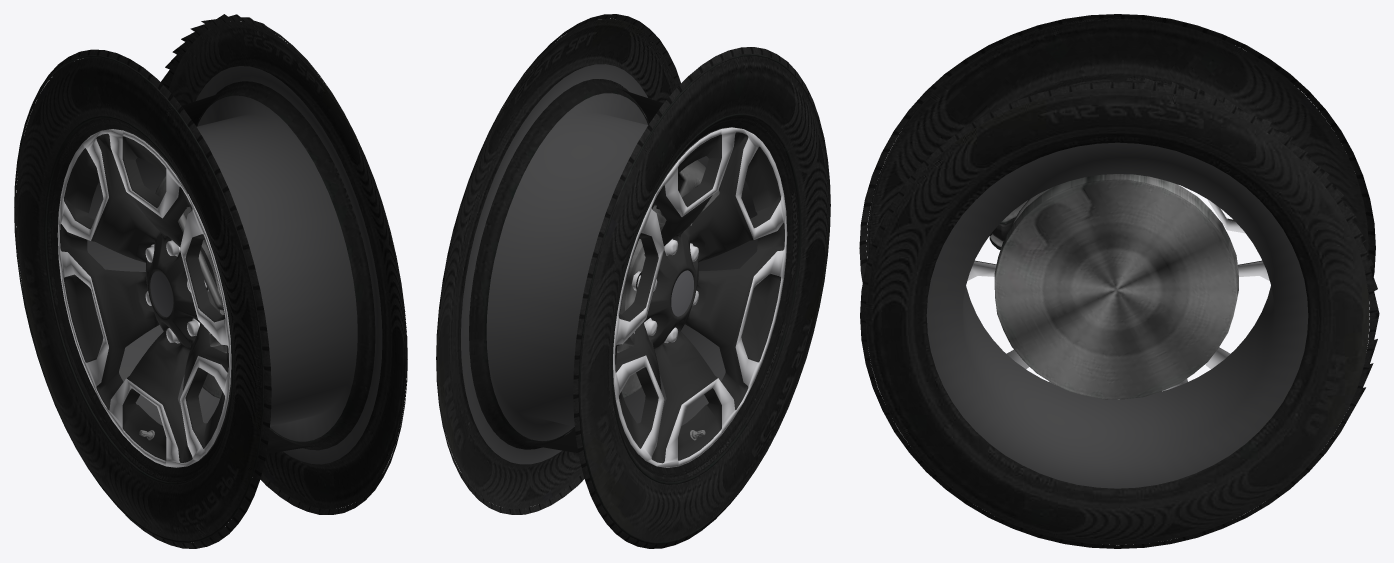
The model's file is hilux_wheelRF.glb.
3 views of the same model, side by side, from view 1: azimuth 30°, elevation 25°; view 2: azimuth 150°, elevation 25°; view 3: azimuth 270°, elevation 25° (orthographic).
Parts seen in each view (by area): view 1: hilux_wheelRF; view 2: hilux_wheelRF; view 3: hilux_wheelRF.
Part boxes in pixels (x1,y1,x2,y2): hilux_wheelRF: (14, 14, 407, 548); hilux_wheelRF: (436, 14, 830, 548); hilux_wheelRF: (859, 14, 1379, 548).
Bounding box in the file's own units: 0.2465 × 0.7169 × 0.7192.
Materials: 9 (3 with a texture image).
